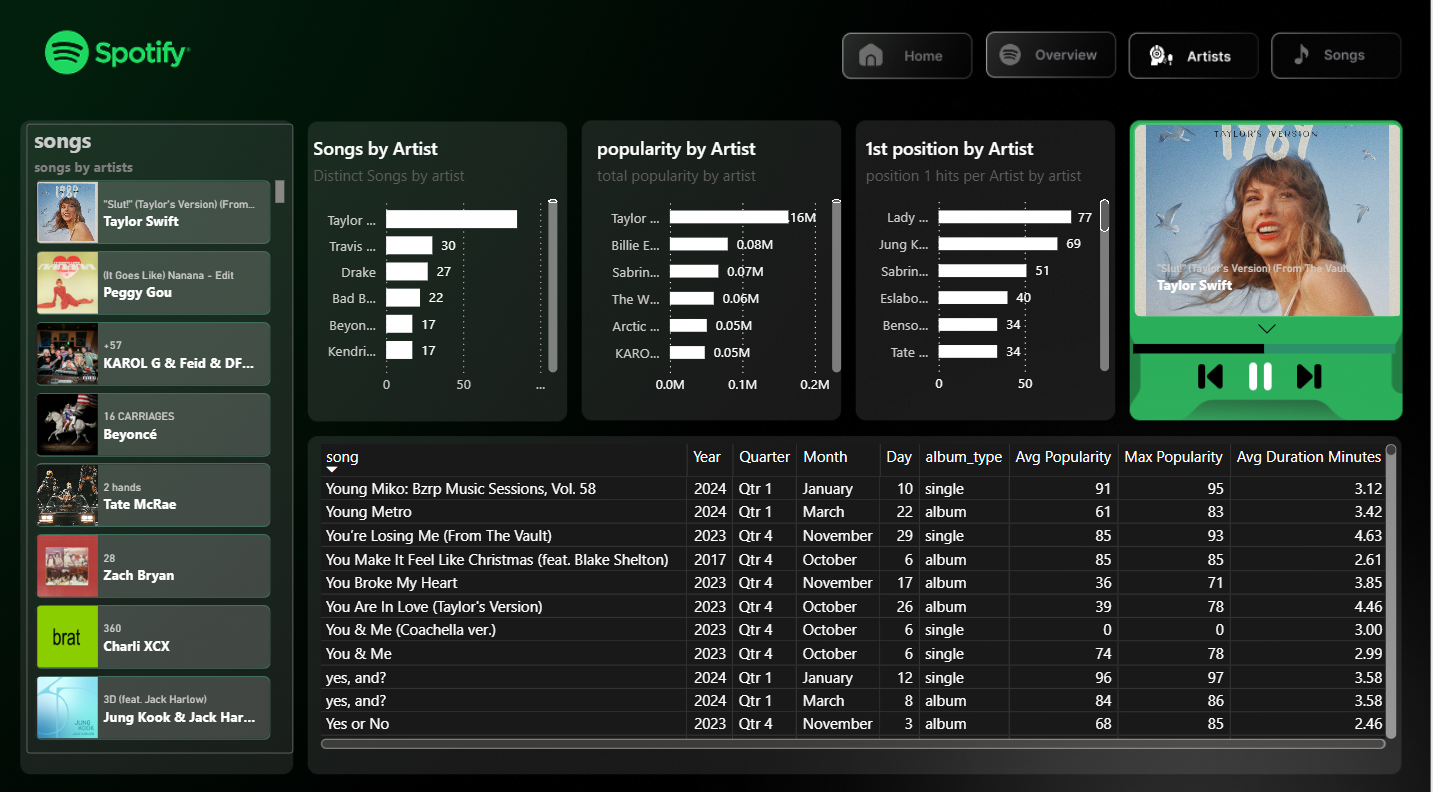

This screenshot's page, from the dashboard's own definition file:
{"tool":"powerbi","page":{"name":"artist","canvas":[1280,720],"ordinal":2},"visuals":[{"type":"actionButton","box":[759.8,32.8,105,39.8],"z":0},{"type":"actionButton","box":[883.9,33.4,112.2,39.8],"z":1000},{"type":"actionButton","box":[1017.9,33.4,100.1,39.8],"z":2000},{"type":"actionButton","box":[1143.3,33.4,100.1,39.8],"z":3000},{"type":"listSlicer","title":"songs","fields":{"Values":["Top-50-World.song"]},"box":[1009.8,89.3,248.5,223.2],"z":4000},{"type":"hundredPercentStackedBarChart","fields":{"Y":["_Measures.Avg Popularity","Avg(Top-50-World.popularity)"]},"box":[1009.3,280.6,243.7,62.7],"z":5000},{"type":"image","box":[1070.8,327.7,25,25],"z":6000},{"type":"image","box":[1158.9,327.7,25,25],"z":7000},{"type":"image","box":[1114.9,327.7,25,25],"z":8000},{"type":"shape","box":[1011,102.5,247.3,293.2],"z":9000},{"type":"clusteredBarChart","title":"Songs by Artist","fields":{"Category":["Top-50-World.artist"],"Y":["_Measures.Distinct Songs"]},"box":[279.1,124.6,227.5,240],"z":10000},{"type":"clusteredBarChart","title":"popularity by Artist","fields":{"Y":["Sum(Top-50-World.popularity)"],"Category":["Top-50-World.artist"]},"box":[531.6,124.6,227.5,240],"z":11000},{"type":"actionButton","box":[340.9,126.7,100.1,39.8],"z":12000},{"type":"clusteredBarChart","title":"1st position by Artist","fields":{"Category":["Top-50-World.artist"],"Y":["_Measures.Position1 Hits per Artist"]},"box":[770.9,124.3,226.8,238.9],"z":13000},{"type":"listSlicer","title":"songs","fields":{"Values":["Top-50-World.song"]},"box":[29,114.6,237.7,561],"z":14000},{"type":"actionButton","box":[105,425.9,103.8,39.8],"z":15000},{"type":"tableEx","fields":{"Values":["Top-50-World.song","Top-50-World.release_date.Variation.Date Hierarchy.Year","Top-50-World.release_date.Variation.Date Hierarchy.Quarter","Top-50-World.release_date.Variation.Date Hierarchy.Month","Top-50-World.release_date.Variation.Date Hierarchy.Day","Top-50-World.album_type","_Measures.Avg Popularity","_Measures.Max Popularity","_Measures.Avg Duration Minutes"]},"box":[284.7,395.7,968.8,281.1],"z":16000}]}

Visuals, with their boxes in screenshot pixels (x1, y1, x2, y2), scaled from the page's 1280x720 canvas onto the 1433x792 screenshot:
actionButton: x1=851, y1=36, x2=968, y2=80
actionButton: x1=990, y1=37, x2=1115, y2=81
actionButton: x1=1140, y1=37, x2=1252, y2=81
actionButton: x1=1280, y1=37, x2=1392, y2=81
"songs" listSlicer: x1=1131, y1=98, x2=1409, y2=344
hundredPercentStackedBarChart - _Measures.Avg Popularity x Avg(Top-50-World.popularity): x1=1130, y1=309, x2=1403, y2=378
image: x1=1199, y1=360, x2=1227, y2=388
image: x1=1297, y1=360, x2=1325, y2=388
image: x1=1248, y1=360, x2=1276, y2=388
shape: x1=1132, y1=113, x2=1409, y2=435
"Songs by Artist" clusteredBarChart: x1=312, y1=137, x2=567, y2=401
"popularity by Artist" clusteredBarChart: x1=595, y1=137, x2=850, y2=401
actionButton: x1=382, y1=139, x2=494, y2=183
"1st position by Artist" clusteredBarChart: x1=863, y1=137, x2=1117, y2=400
"songs" listSlicer: x1=32, y1=126, x2=299, y2=743
actionButton: x1=118, y1=468, x2=234, y2=512
tableEx - Top-50-World.song x Top-50-World.release_date.Variation.Date Hierarchy.Year: x1=319, y1=435, x2=1403, y2=744
